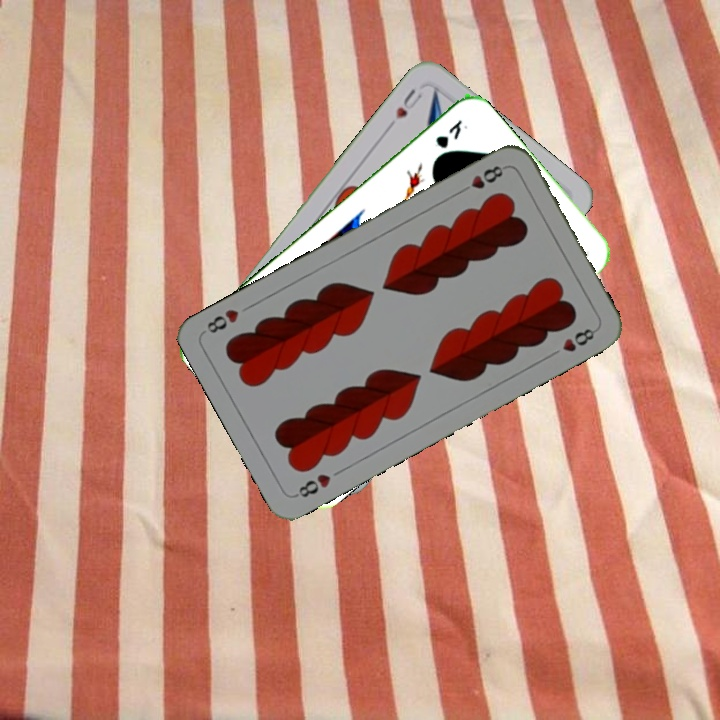GK: (431, 115, 470, 151)
H8: (455, 161, 509, 197), (291, 470, 334, 500)
HU: (384, 84, 425, 131)
